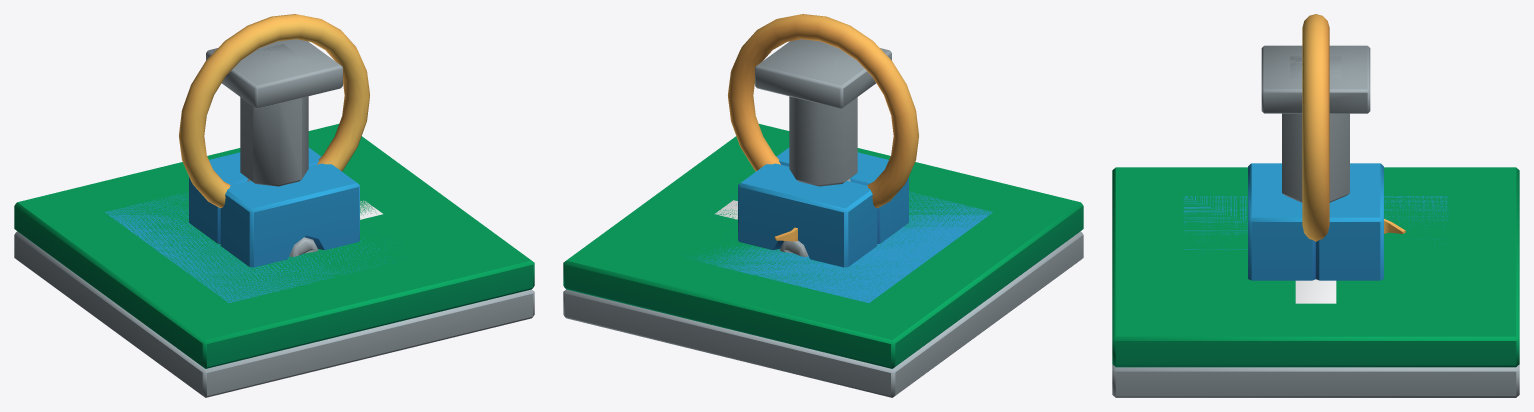
The model's file is kit.glb.
3 renders of one model, left to right at view 1: azimuth 30°, elevation 25°; view 2: azimuth 150°, elevation 25°; view 3: azimuth 270°, elevation 25°, orthographic. The views are drawn at different scales.
Parts seen in each view (by area): view 1: platform_6x6x1_green, platform_decorative_2x2x2_blue, pillar_2x2x4, hoop_yellow, platform_4x4x1_blue, pillar_1x1x4; view 2: platform_6x6x1_green, platform_decorative_2x2x2_blue, pillar_2x2x4, hoop_yellow, platform_4x4x1_blue; view 3: platform_6x6x1_green, platform_decorative_2x2x2_blue, pillar_2x2x4, hoop_yellow, platform_4x4x1_blue, barrier_4x1x1, pillar_1x1x4.
Part boxes in pixels (x1,y1,x2,y2): platform_6x6x1_green: [14, 124, 534, 397]; platform_decorative_2x2x2_blue: [189, 147, 359, 267]; pillar_2x2x4: [206, 39, 342, 186]; hoop_yellow: [179, 14, 369, 208]; platform_4x4x1_blue: [105, 192, 397, 302]; pillar_1x1x4: [249, 44, 306, 68]; platform_6x6x1_green: [563, 124, 1083, 397]; platform_decorative_2x2x2_blue: [738, 147, 908, 267]; pillar_2x2x4: [755, 39, 891, 186]; hoop_yellow: [728, 14, 918, 208]; platform_4x4x1_blue: [687, 192, 992, 302]; platform_6x6x1_green: [1112, 167, 1519, 397]; platform_decorative_2x2x2_blue: [1248, 163, 1383, 280]; pillar_2x2x4: [1261, 45, 1370, 202]; hoop_yellow: [1302, 14, 1329, 241]; platform_4x4x1_blue: [1183, 196, 1448, 250]; barrier_4x1x1: [1295, 279, 1336, 303]; pillar_1x1x4: [1290, 56, 1341, 78].
Size of the model in its own units: 6 by 5.29 by 6.
Materials: 1 (1 with a texture image).
